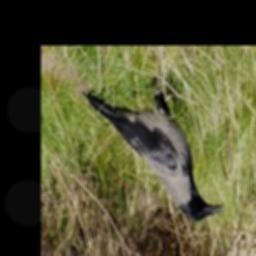Crow: (82, 78, 225, 221)
